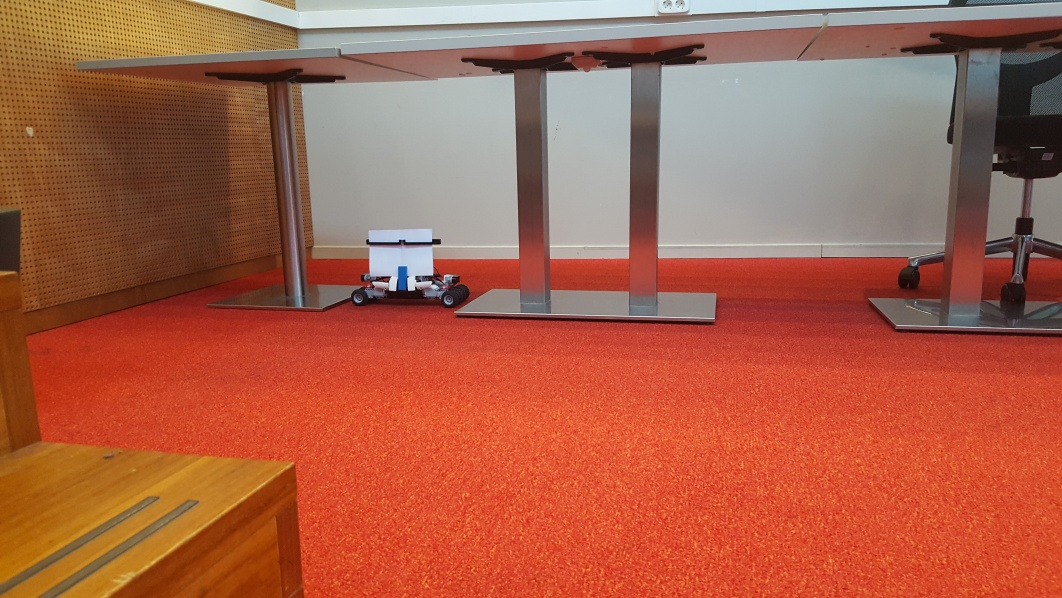car: (350, 228, 471, 310)
